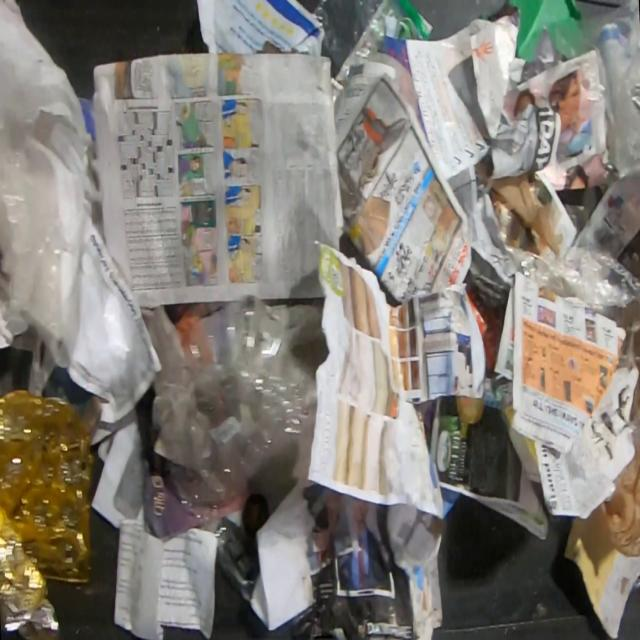rigid_plastic: (148, 293, 316, 545)
soft_plastic: (0, 0, 89, 371), (0, 388, 94, 639), (499, 205, 640, 307), (309, 0, 431, 76), (489, 170, 563, 255), (593, 442, 640, 559)
